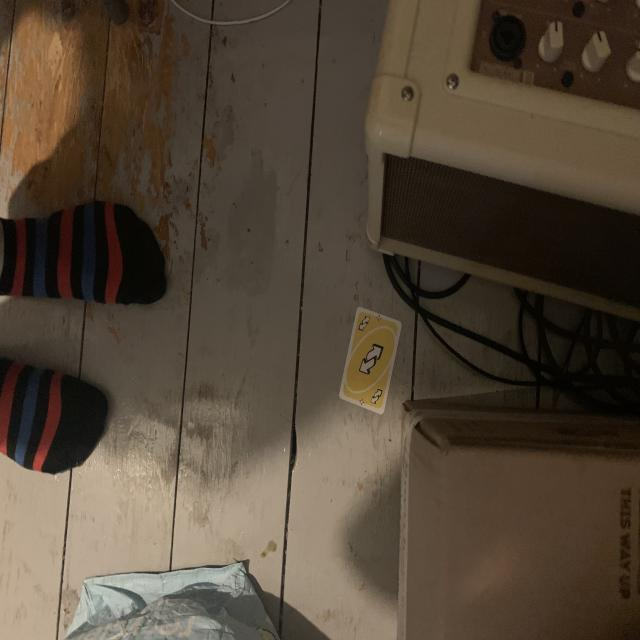lyellowrevers-20: (357, 314, 371, 333)
